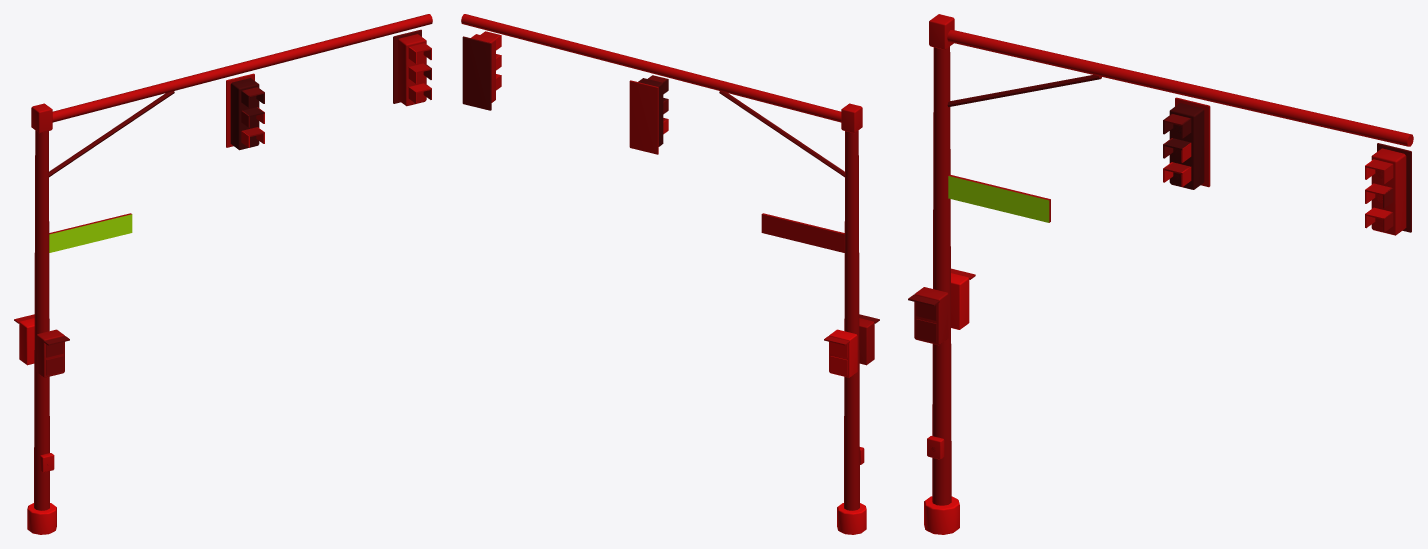
Rendered from traffic_light.glb.
3 renders of one model, left to right at view 1: azimuth 30°, elevation 25°; view 2: azimuth 150°, elevation 25°; view 3: azimuth 330°, elevation 25°, orthographic. The views are drawn at different scales.
Visible parts, largest first — view 1: traffic_light; view 2: traffic_light; view 3: traffic_light.
Part boxes in pixels (box(x1,y1,x2,y2)): traffic_light: box(14, 14, 432, 534); traffic_light: box(461, 14, 879, 534); traffic_light: box(908, 14, 1413, 534).
Size of the model in its own units: 6.71 by 6.75 by 1.
